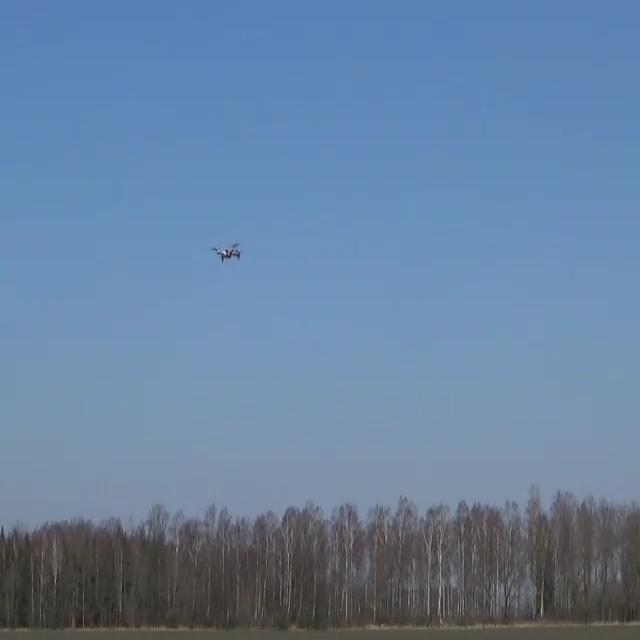Drone: (207, 238, 250, 268)
